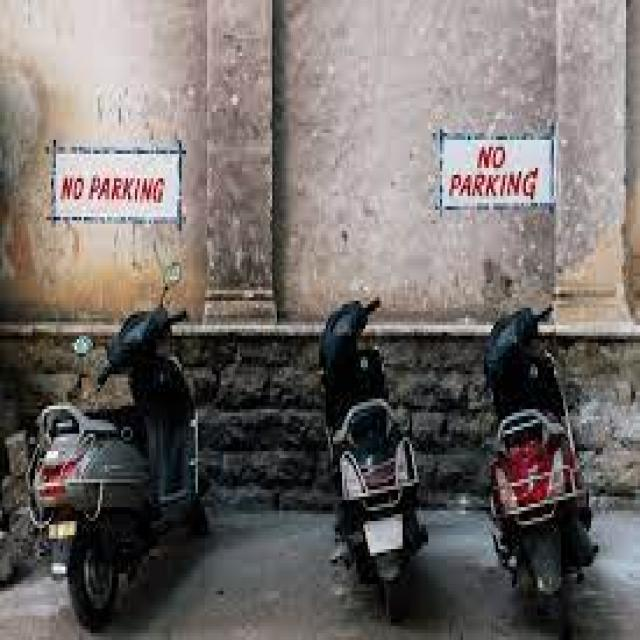No Parking: (19, 339, 597, 640)
